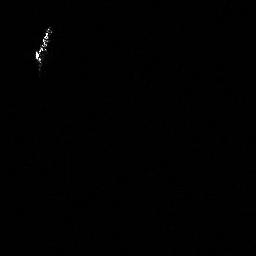ship: (31, 21, 57, 67)
